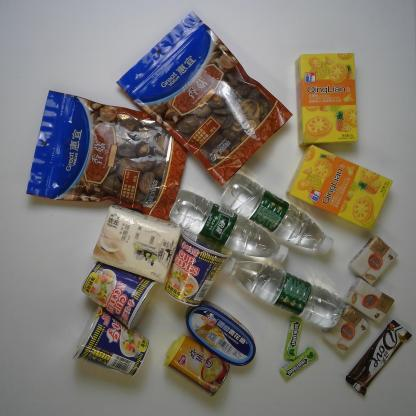Canned Food: (184, 300, 255, 366), (163, 334, 231, 396)
Chocolate: (345, 320, 413, 396)
Dessert: (286, 144, 393, 229), (294, 53, 359, 146)
Dried Food: (115, 10, 292, 185), (26, 90, 192, 220)
Drink: (219, 174, 333, 256), (168, 190, 289, 263), (221, 258, 345, 328)
Gum: (278, 347, 318, 381), (283, 315, 302, 360)
Instant Noodles: (72, 305, 150, 378), (165, 225, 233, 308), (81, 260, 156, 330)
Tissue: (92, 202, 182, 284), (348, 235, 398, 288), (320, 305, 371, 355), (344, 277, 394, 323)
